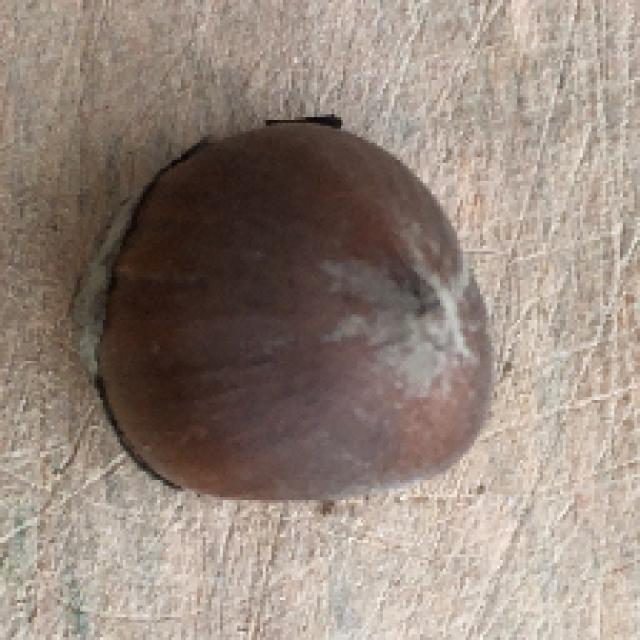damagedHazelnut: (69, 84, 508, 513)
